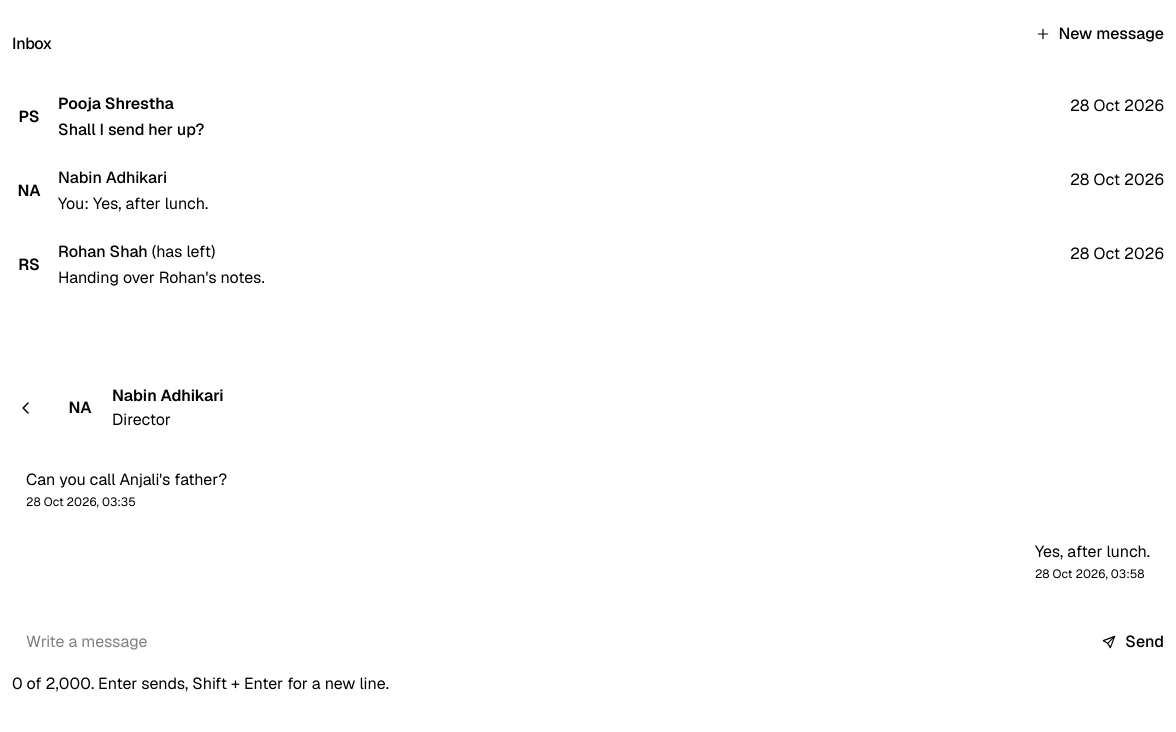
it: Writing › shows a refusal's reason, e.g. a read-only office
The width and height of the screenshot is (1176, 732).
Type "Hi" into the text box named "Message to Nabin Adhikari" at {"x": 552, "y": 642}, box [12, 620, 1091, 664]
Then press Enter
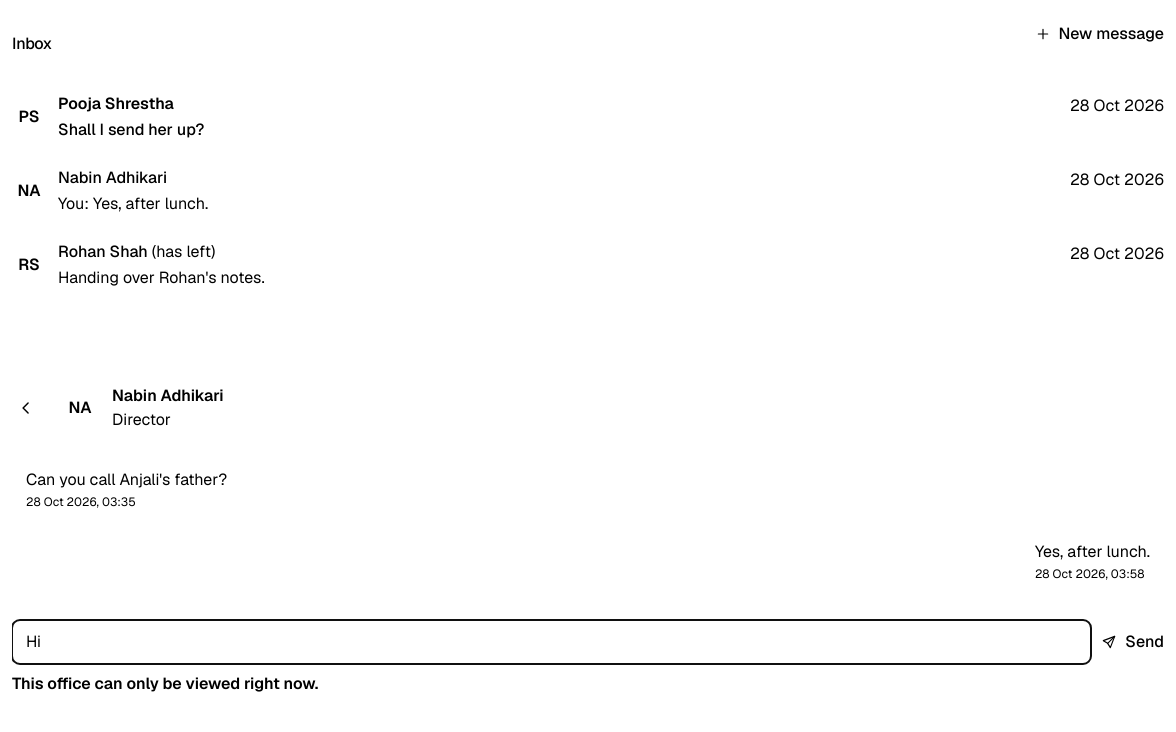
Check: the text "This office can only be viewed right now." is shown, box [12, 673, 318, 694]
